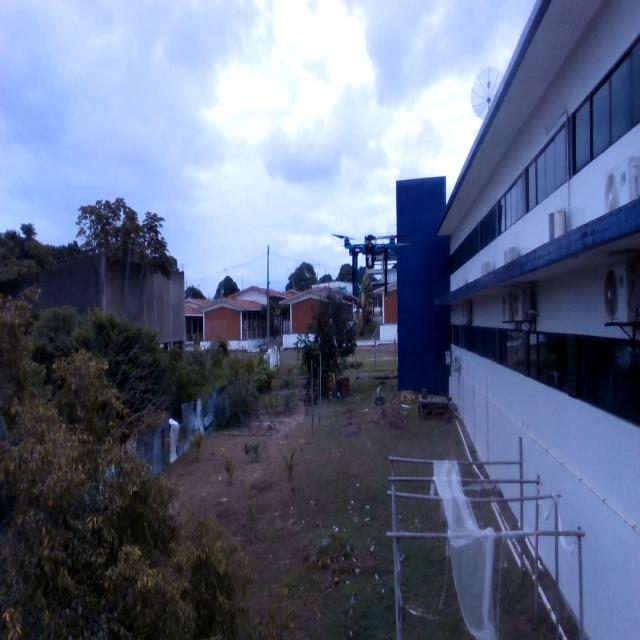-uav-: (326, 221, 413, 314)
